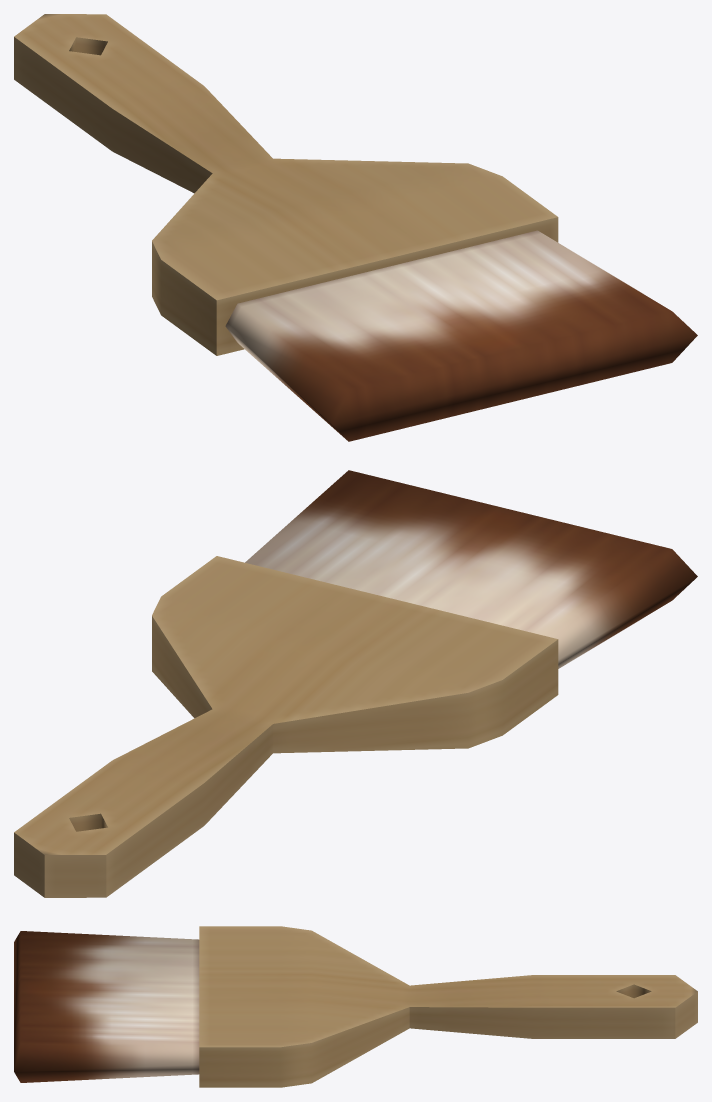
File: jsf_Brush_02.fbx
3 renders of one model, top to bottom at view 1: azimuth 30°, elevation 25°; view 2: azimuth 150°, elevation 25°; view 3: azimuth 270°, elevation 25°, orthographic. The views are drawn at different scales.
Visible parts, largest first — view 1: jsf_Brush_02; view 2: jsf_Brush_02; view 3: jsf_Brush_02.
Boxes of the visible parts, bbox=[...] form: jsf_Brush_02: bbox=[14, 14, 697, 441]; jsf_Brush_02: bbox=[14, 470, 697, 897]; jsf_Brush_02: bbox=[14, 926, 697, 1087].
Size of the model in its own units: 12.41 by 1.81 by 27.65.
